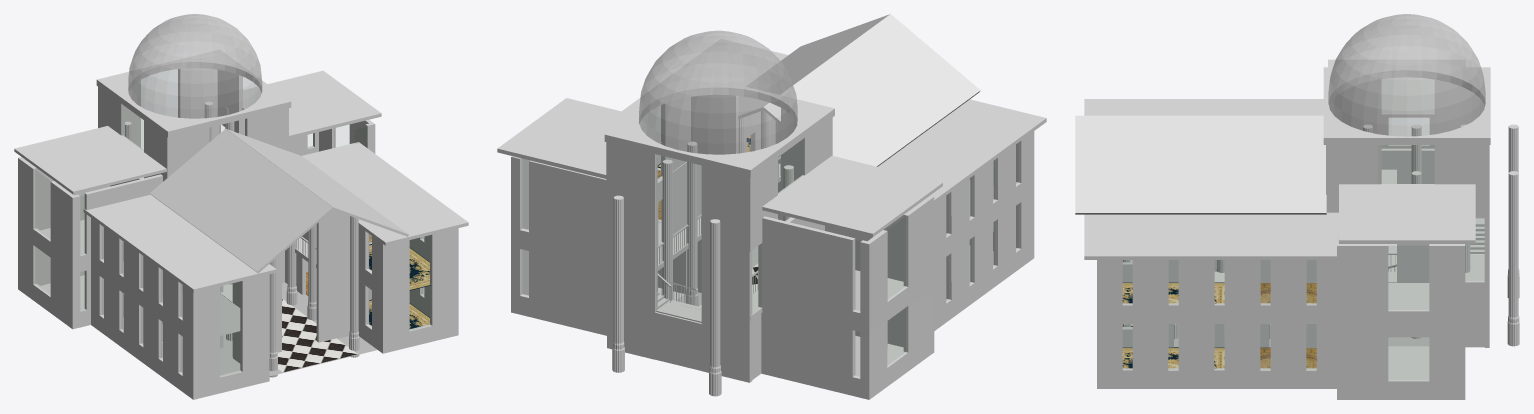
File: Detective test 7(house structure).fbx
3 renders of one model, left to right at view 1: azimuth 30°, elevation 25°; view 2: azimuth 150°, elevation 25°; view 3: azimuth 270°, elevation 25°, orthographic. The views are drawn at different scales.
Parts seen in each view (by area): view 1: Walls, roof, round roof, Cylinder.001, Plane.025, Cylinder.002, Plane.026, Plane.01, Plane.000, Livingroom Floor, Cube.001, Plane.001; view 2: Walls, roof, round roof, Cylinder.001, Cylinder.002, Cube.001, Cube.019; view 3: Walls, roof, round roof, Cylinder.001, Plane.013, Cylinder.002, Plane.006, Livingroom Floor, Plane.01, Cube.001, Plane.002, Plane.026 (+1 smaller).
Boxes of the visible parts, <box> form: Walls: <box>18,68,458,399</box>; roof: <box>14,50,468,292</box>; round roof: <box>128,14,262,118</box>; Cylinder.001: <box>204,101,359,357</box>; Plane.025: <box>277,298,357,372</box>; Cylinder.002: <box>125,121,277,377</box>; Plane.026: <box>220,282,377,376</box>; Plane.01: <box>369,244,430,290</box>; Plane.000: <box>162,293,240,335</box>; Livingroom Floor: <box>369,299,429,329</box>; Cube.001: <box>220,238,316,305</box>; Plane.001: <box>162,337,240,375</box>; Walls: <box>511,94,1034,399</box>; roof: <box>497,14,1046,237</box>; round roof: <box>639,30,797,154</box>; Cylinder.001: <box>612,110,771,372</box>; Cylinder.002: <box>709,165,793,396</box>; Cube.001: <box>657,163,780,320</box>; Cube.019: <box>657,159,780,305</box>; Walls: <box>1097,79,1489,399</box>; roof: <box>1075,59,1490,259</box>; round roof: <box>1328,14,1485,136</box>; Cylinder.001: <box>1122,171,1519,346</box>; Plane.013: <box>1388,346,1429,379</box>; Cylinder.002: <box>1216,124,1519,298</box>; Plane.006: <box>1388,283,1429,308</box>; Livingroom Floor: <box>1122,347,1224,368</box>; Plane.01: <box>1122,282,1224,303</box>; Cube.001: <box>1214,218,1487,286</box>; Plane.002: <box>1260,347,1316,368</box>; Plane.026: <box>1174,337,1429,347</box>.
Size of the model in its own units: 1650 by 1292 by 1732.
